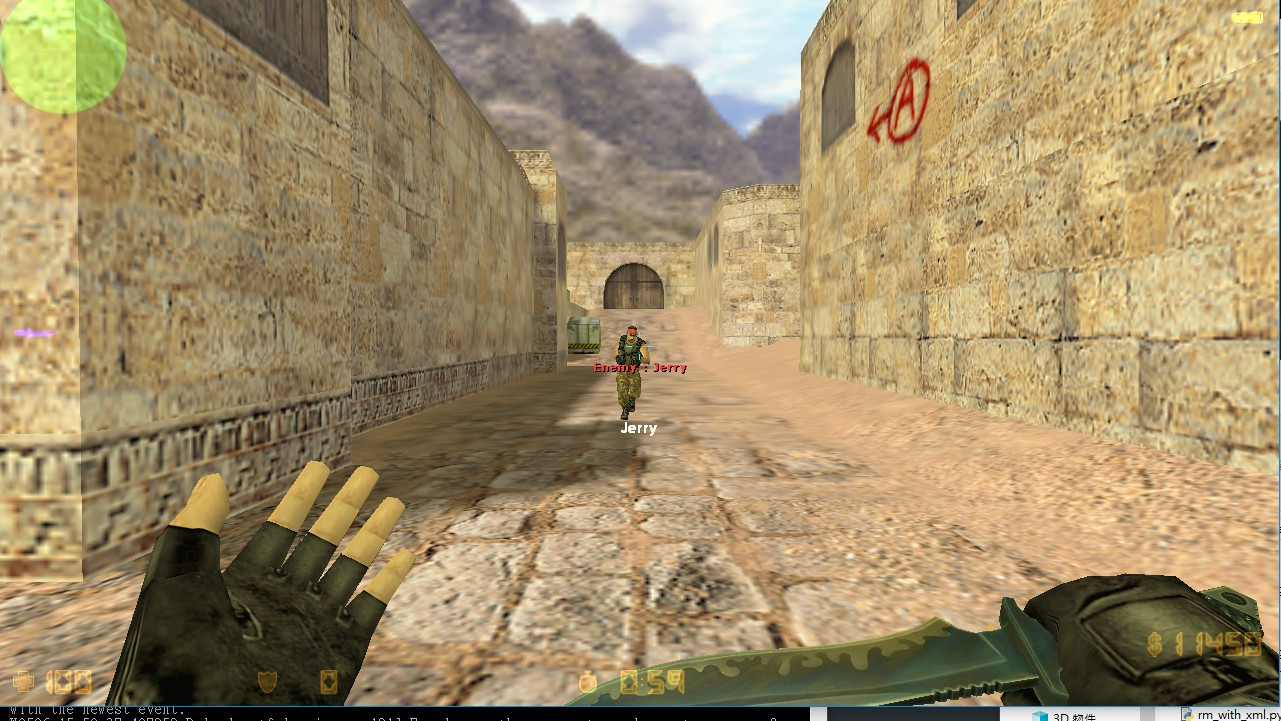person: (612, 319, 650, 422)
